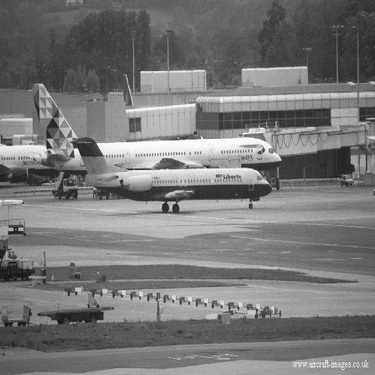airplane: (23, 76, 286, 179), (38, 127, 284, 217), (3, 134, 83, 179)
